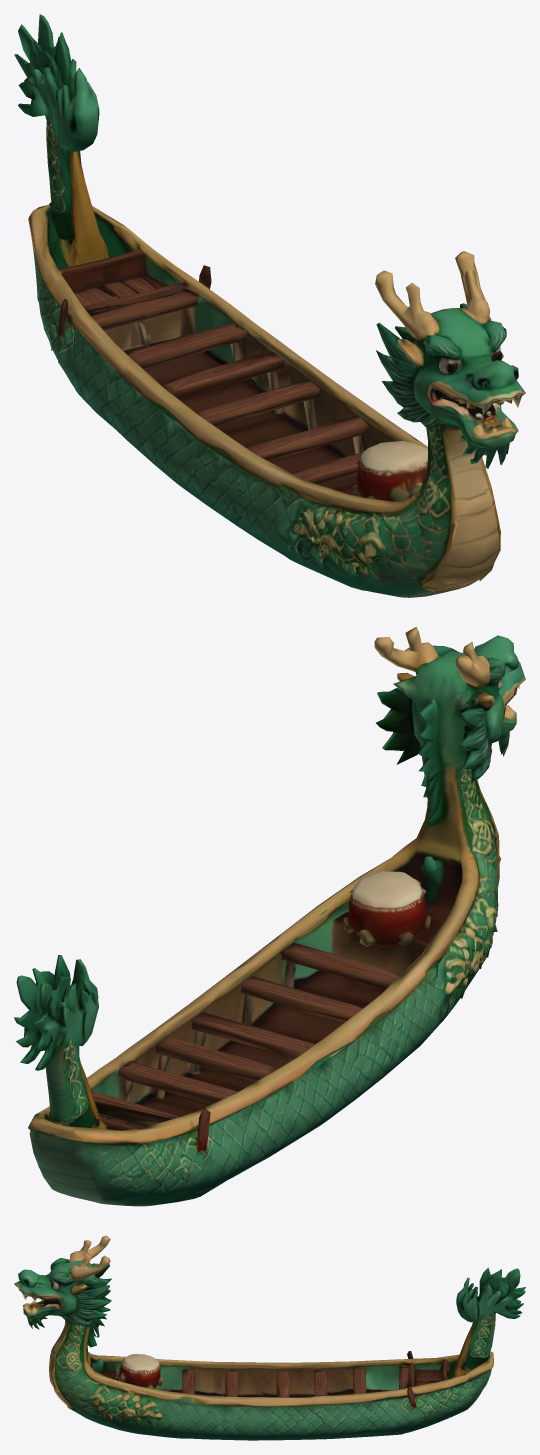
File: opp-green.glb
The picture shows the model from 3 angles, top to bottom: view 1: azimuth 30°, elevation 25°; view 2: azimuth 150°, elevation 25°; view 3: azimuth 270°, elevation 25°; orthographic projection. The views are drawn at different scales.
Parts seen in each view (by area): view 1: tripo_node_d8070f40-4db5-48bb-9775-0518088188d4; view 2: tripo_node_d8070f40-4db5-48bb-9775-0518088188d4; view 3: tripo_node_d8070f40-4db5-48bb-9775-0518088188d4.
Boxes of the visible parts, x1=… form: tripo_node_d8070f40-4db5-48bb-9775-0518088188d4: x1=14, y1=14, x2=525, y2=597; tripo_node_d8070f40-4db5-48bb-9775-0518088188d4: x1=14, y1=626, x2=525, y2=1206; tripo_node_d8070f40-4db5-48bb-9775-0518088188d4: x1=14, y1=1235, x2=525, y2=1440.
Size of the model in its own units: 0.1961 by 0.3865 by 0.985.
1 material, 1 textured.
